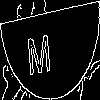M: (25, 25, 52, 76)
